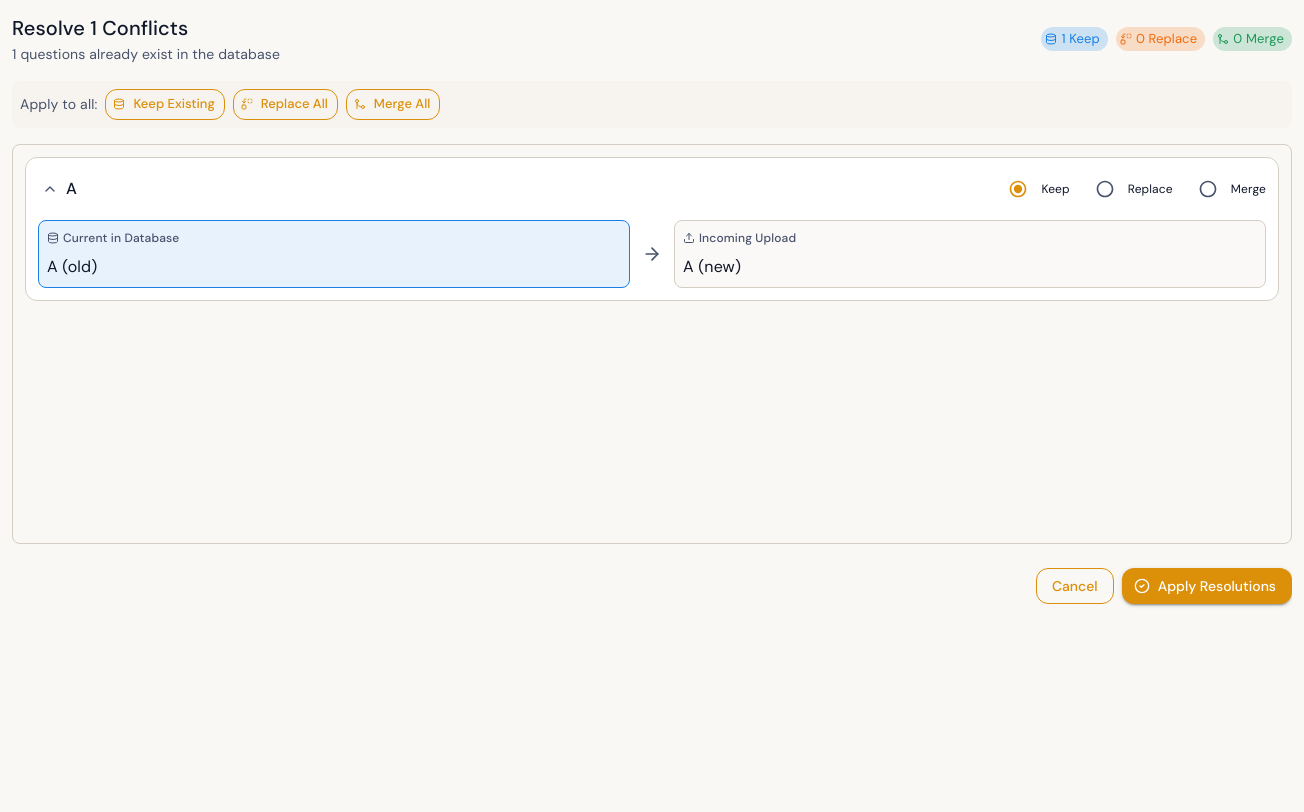
ConflictResolutionDialog › expands each row from a real button that reports its state
The width and height of the screenshot is (1304, 812).
Step 1. Click the button "A" → (59,189), box [38,177,81,201]
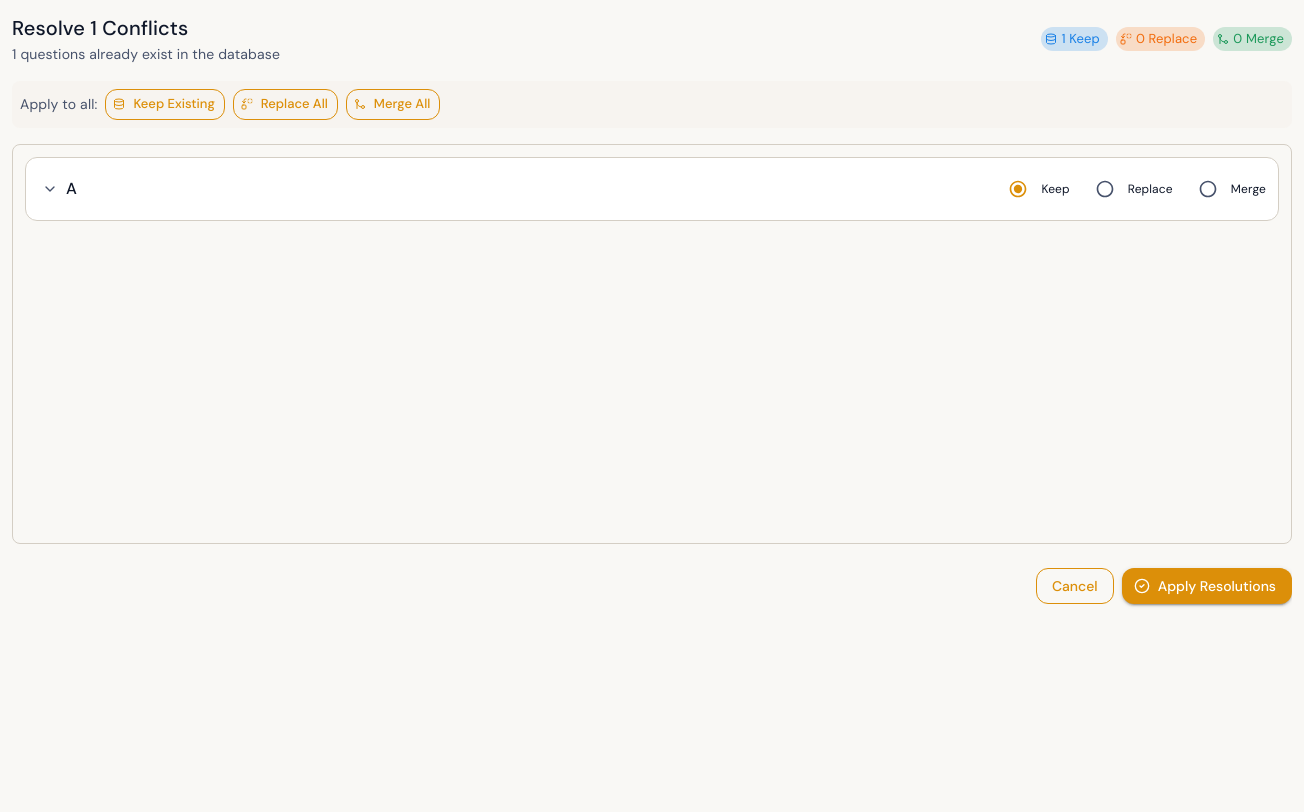
Expected: the button "A" is collapsed, [38,177,81,201]
Expected: the text "A (old)" is gone
Step 2. Press Enter
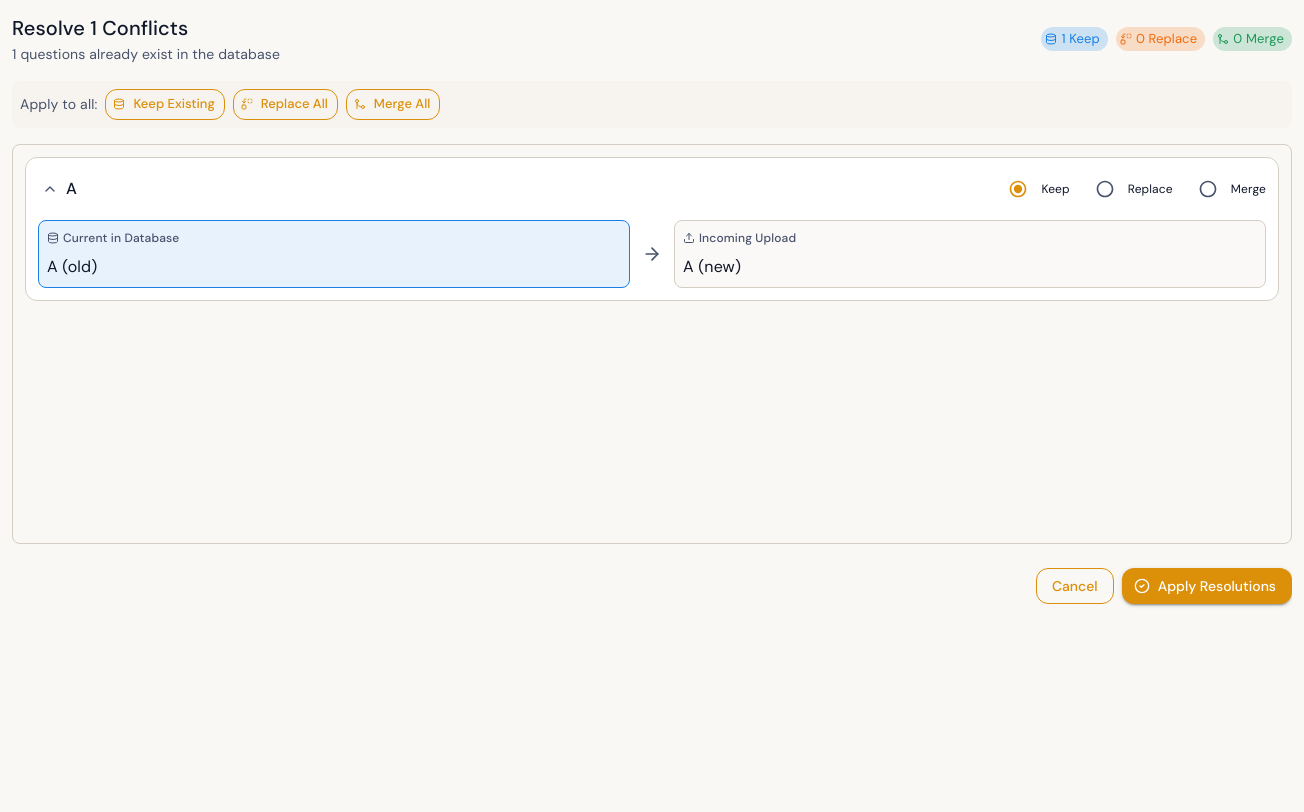
Expected: the button "A" is expanded, [38,177,81,201]
Expected: the text "A (old)" is shown, [47,256,97,277]
